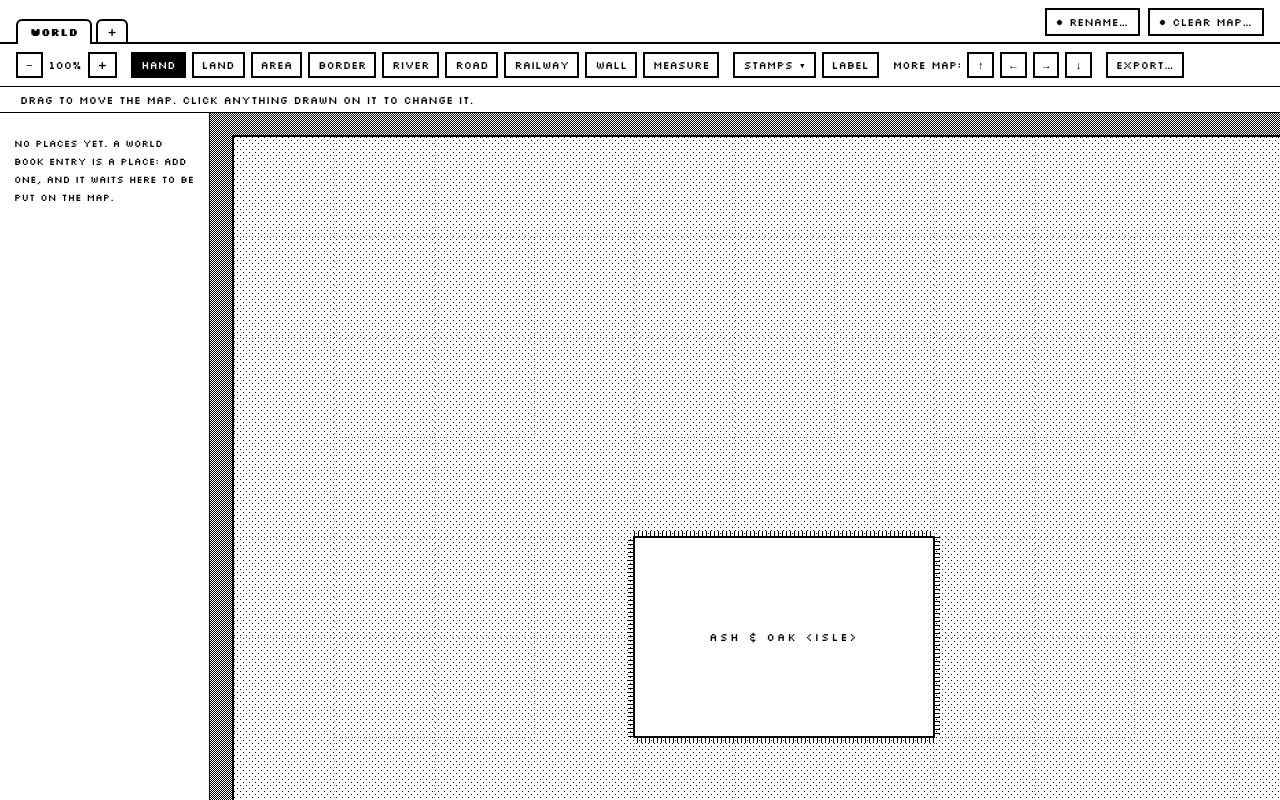
Test: Export Map Image › writes the picture in the format and with the parts chosen, and says where
The image size is (1280, 800).
Click the button "Export…": x=1145, y=65 [1106, 52, 1184, 78]
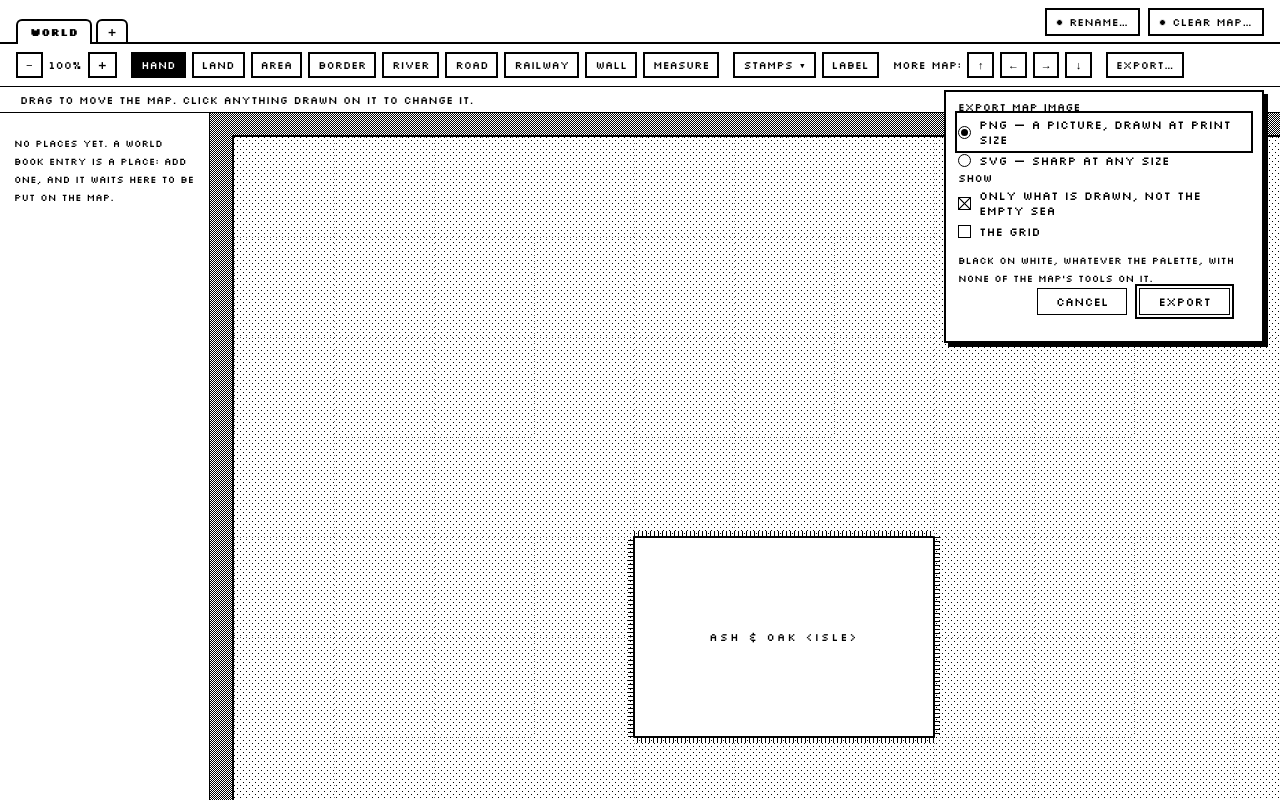
Click the radio button labelled "SVG — sharp at any size": x=1104, y=160 [958, 150, 1250, 171]
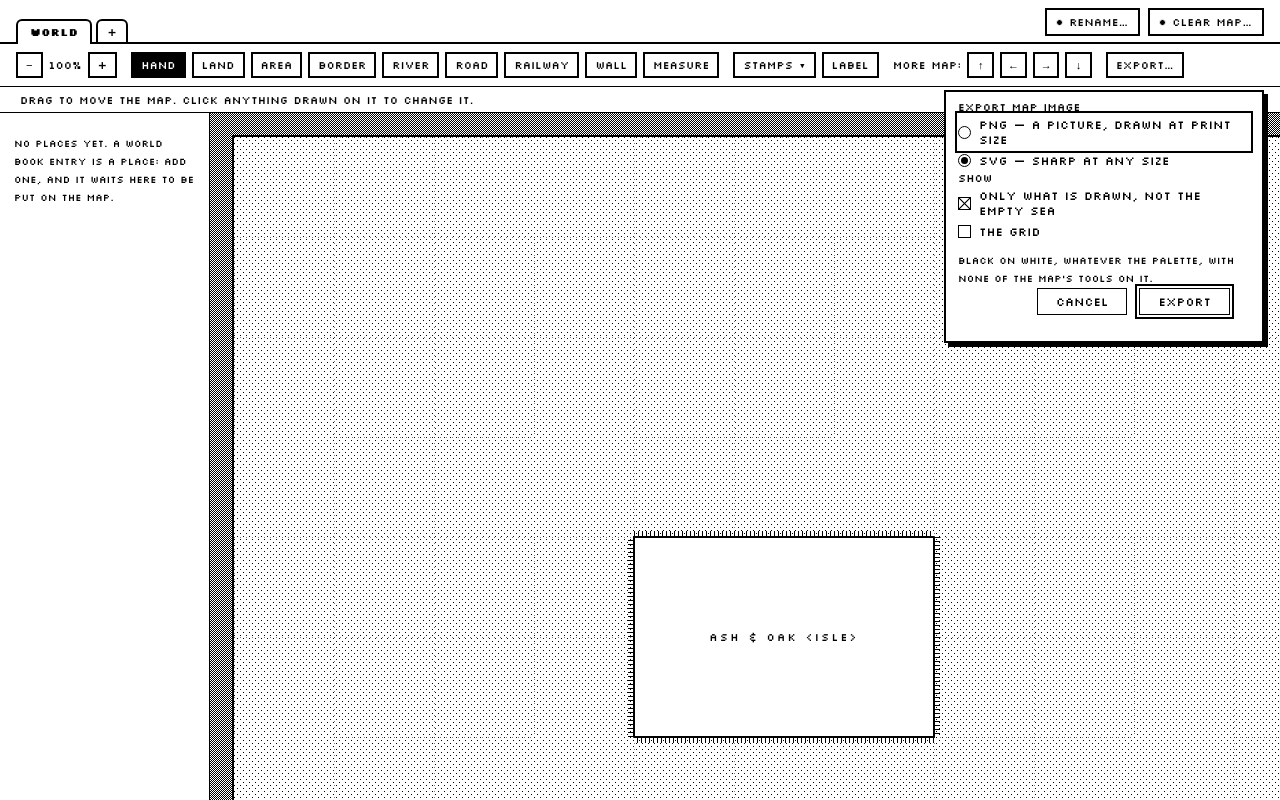
Click the checkbox labelled "The grid": x=1010, y=232 [958, 221, 1250, 242]
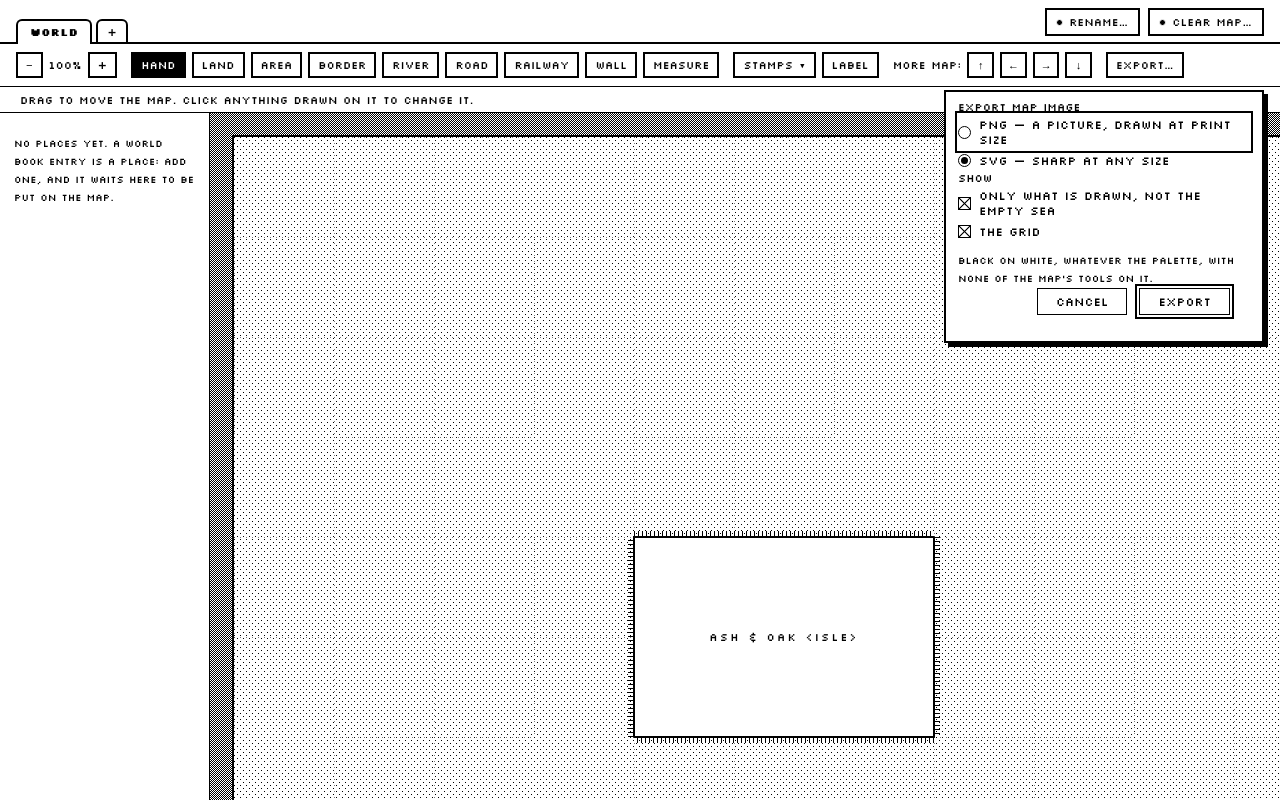
Click the button with class "default": x=1185, y=302 [1140, 288, 1230, 315]
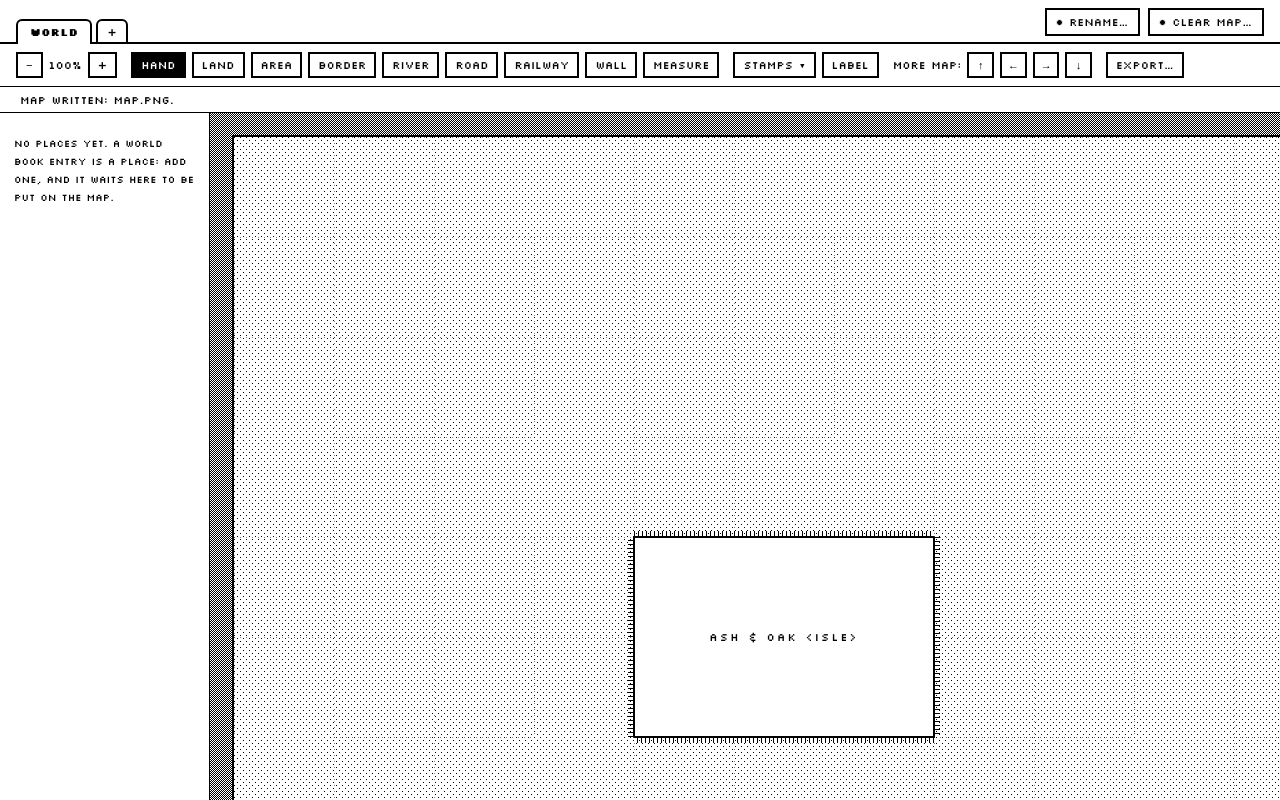
Expected: the text "EXPORT MAP IMAGE" is gone
Expected: the text with class "map-hint" reads "Map written: map.png.", [20, 92, 174, 106]
